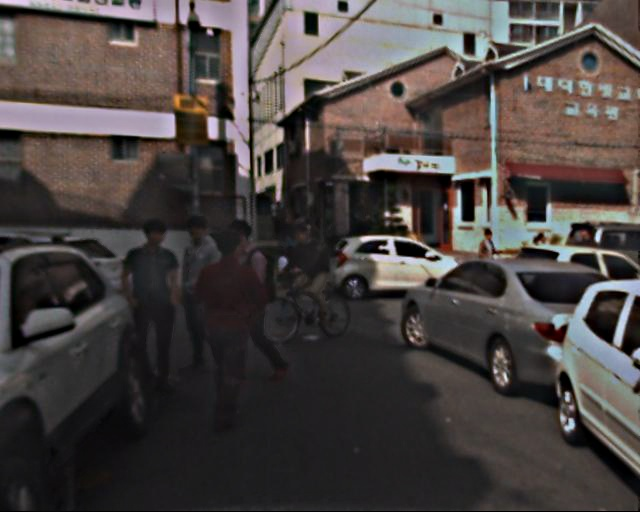person: (186, 230, 268, 433), (119, 219, 191, 392), (214, 221, 280, 383), (168, 215, 235, 365), (288, 221, 331, 332), (474, 229, 504, 297)
